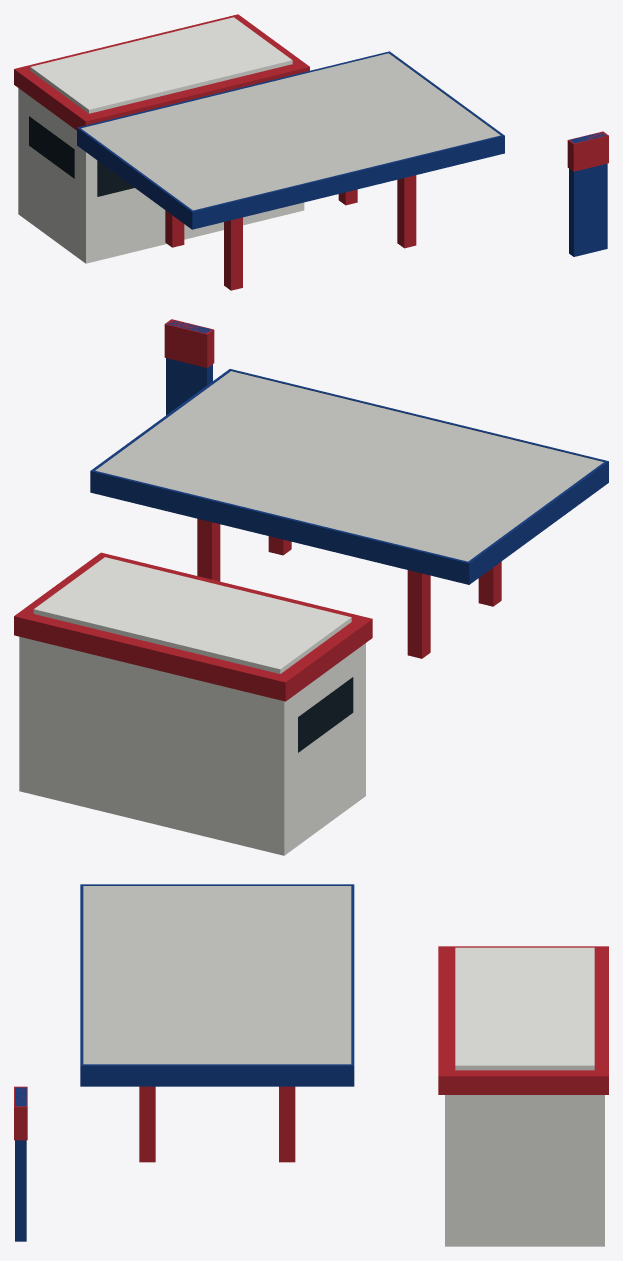
The model's file is azs_tnk.lod.glb.
The picture shows the model from 3 angles, top to bottom: view 1: azimuth 30°, elevation 25°; view 2: azimuth 150°, elevation 25°; view 3: azimuth 270°, elevation 25°; orthographic projection. The views are drawn at different scales.
Parts seen in each view (by area): view 1: azs_tnk_canopy, azs_tnk_shop_wall, azs_tnk_brand, azs_tnk_shop_band, azs_tnk_clad, azs_tnk_stela, azs_tnk_shop_glass, azs_tnk_stela2; view 2: azs_tnk_shop_wall, azs_tnk_canopy, azs_tnk_brand, azs_tnk_shop_band, azs_tnk_clad, azs_tnk_shop_glass, azs_tnk_stela2, azs_tnk_stela; view 3: azs_tnk_canopy, azs_tnk_shop_wall, azs_tnk_shop_band, azs_tnk_brand, azs_tnk_clad, azs_tnk_stela, azs_tnk_stela2.
Part boxes in pixels (x1,y1,x2,y2): azs_tnk_canopy: [81, 53, 500, 210]; azs_tnk_shop_wall: [18, 17, 304, 263]; azs_tnk_brand: [77, 51, 504, 229]; azs_tnk_shop_band: [14, 14, 309, 130]; azs_tnk_clad: [165, 175, 416, 290]; azs_tnk_stela: [569, 132, 607, 256]; azs_tnk_shop_glass: [29, 116, 134, 196]; azs_tnk_stela2: [567, 131, 608, 171]; azs_tnk_shop_wall: [19, 557, 365, 855]; azs_tnk_canopy: [95, 371, 603, 561]; azs_tnk_brand: [90, 369, 608, 584]; azs_tnk_shop_band: [14, 552, 372, 701]; azs_tnk_clad: [197, 518, 501, 658]; azs_tnk_shop_glass: [298, 677, 353, 752]; azs_tnk_stela2: [164, 319, 214, 367]; azs_tnk_stela: [166, 320, 212, 415]; azs_tnk_canopy: [83, 886, 351, 1064]; azs_tnk_shop_wall: [445, 947, 604, 1246]; azs_tnk_shop_band: [438, 946, 608, 1094]; azs_tnk_brand: [80, 884, 354, 1086]; azs_tnk_clad: [139, 1086, 295, 1162]; azs_tnk_stela: [15, 1087, 26, 1241]; azs_tnk_stela2: [14, 1086, 27, 1140].
Bounding box in the file's own units: 20.64 × 9 × 23.01.
